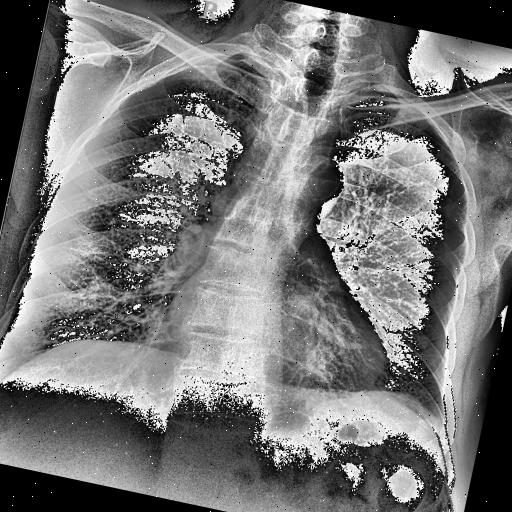0- Aortic enlargement: (260, 138, 360, 236)
1- Atelectasis: (298, 368, 462, 436)
2- Calcification: (292, 155, 356, 225), (298, 154, 348, 204)
